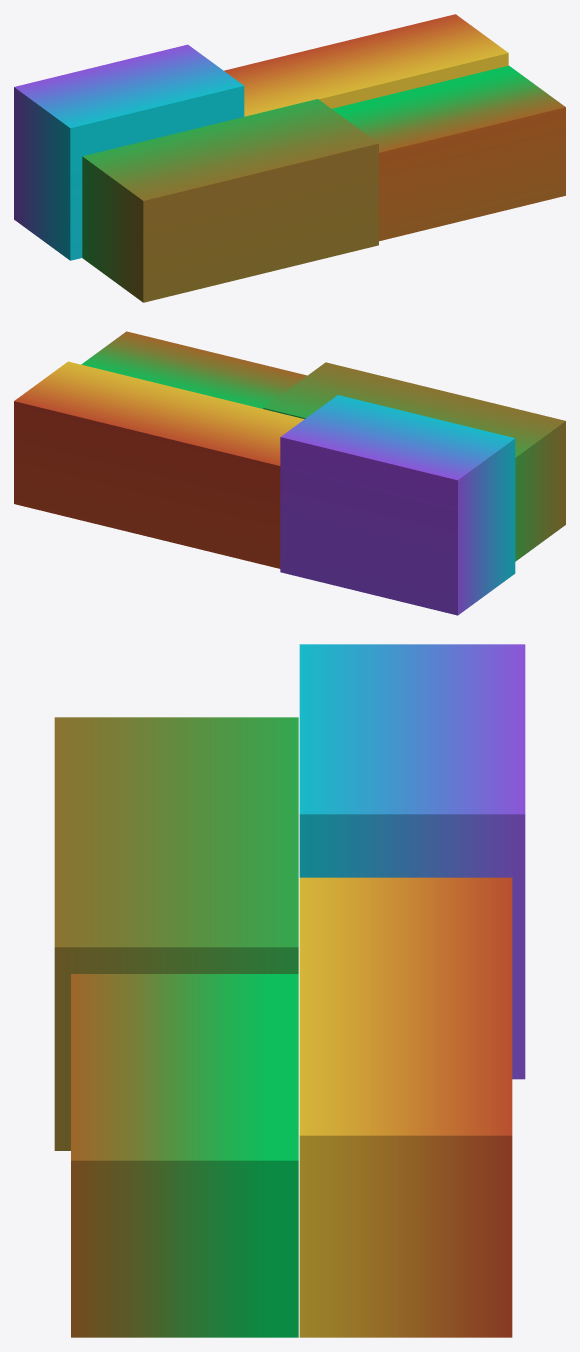
The model's file is ETC0310008.fbx.
3 views of the same model, one above another, from view 1: azimuth 30°, elevation 25°; view 2: azimuth 150°, elevation 25°; view 3: azimuth 270°, elevation 25° (orthographic). The views are drawn at different scales.
Parts seen in each view (by area): view 1: smETC0310008; view 2: smETC0310008; view 3: smETC0310008.
Boxes of the visible parts, bbox=[...] form: smETC0310008: bbox=[14, 14, 565, 302]; smETC0310008: bbox=[14, 331, 565, 615]; smETC0310008: bbox=[54, 644, 525, 1337].
Bounding box in the file's own units: 180 × 52.08 × 83.81.
Materials: 1 (1 with a texture image).
